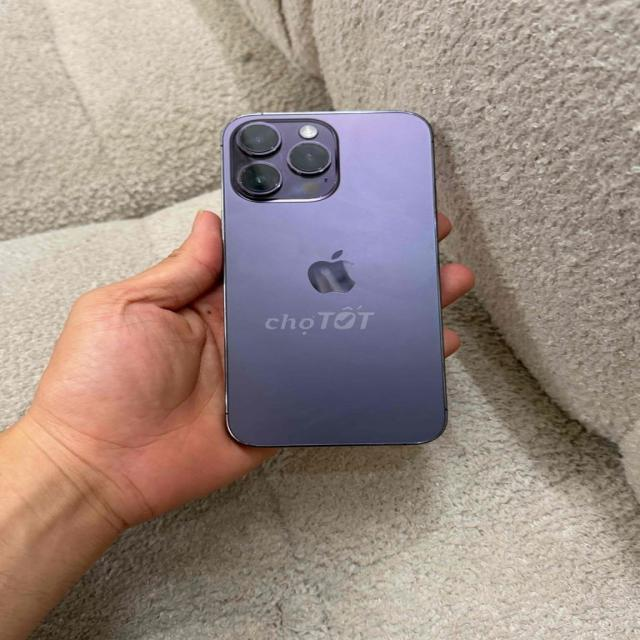gen_14: (211, 108, 453, 454)
